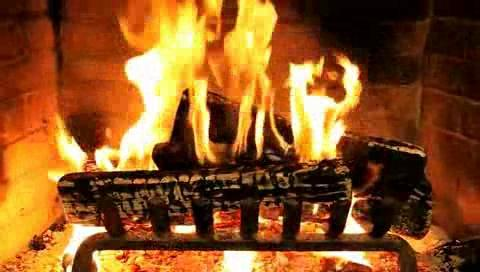fire: (111, 3, 342, 180)
